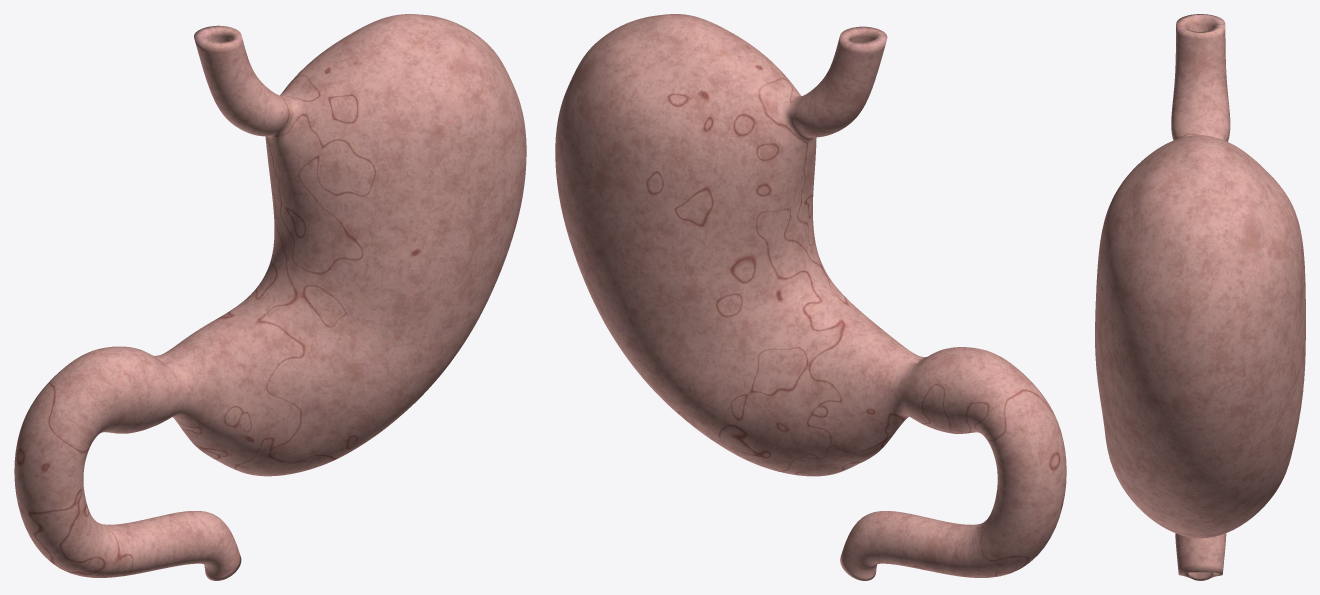
File: 3DPX-021124.glb
3 renders of one model, left to right at view 1: azimuth 30°, elevation 25°; view 2: azimuth 150°, elevation 25°; view 3: azimuth 270°, elevation 25°, orthographic. The views are drawn at different scales.
Visible parts, largest first — view 1: Stomach_0; view 2: Stomach_0; view 3: Stomach_0.
Part boxes in pixels (x1,y1,x2,y2): Stomach_0: (14,14,526,580); Stomach_0: (555,14,1066,580); Stomach_0: (1095,14,1305,580).
Bounding box in the file's own units: 4.41 × 4.6 × 1.57.
Materials: 1 (1 with a texture image).
